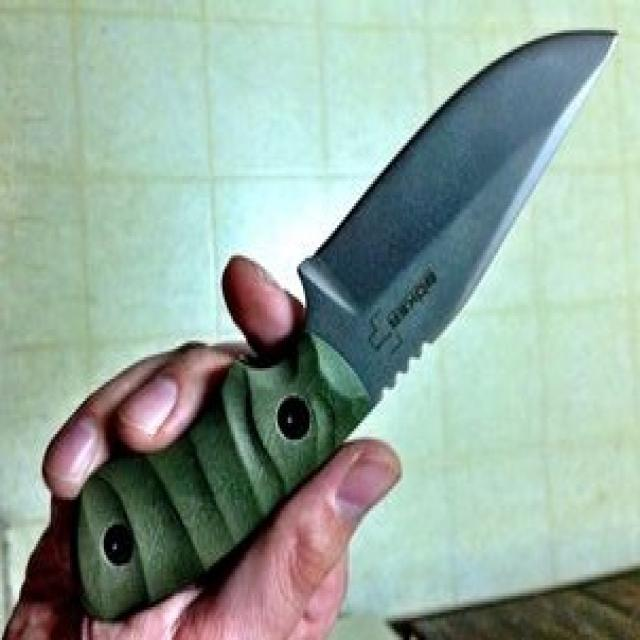knife: (75, 7, 640, 630)
